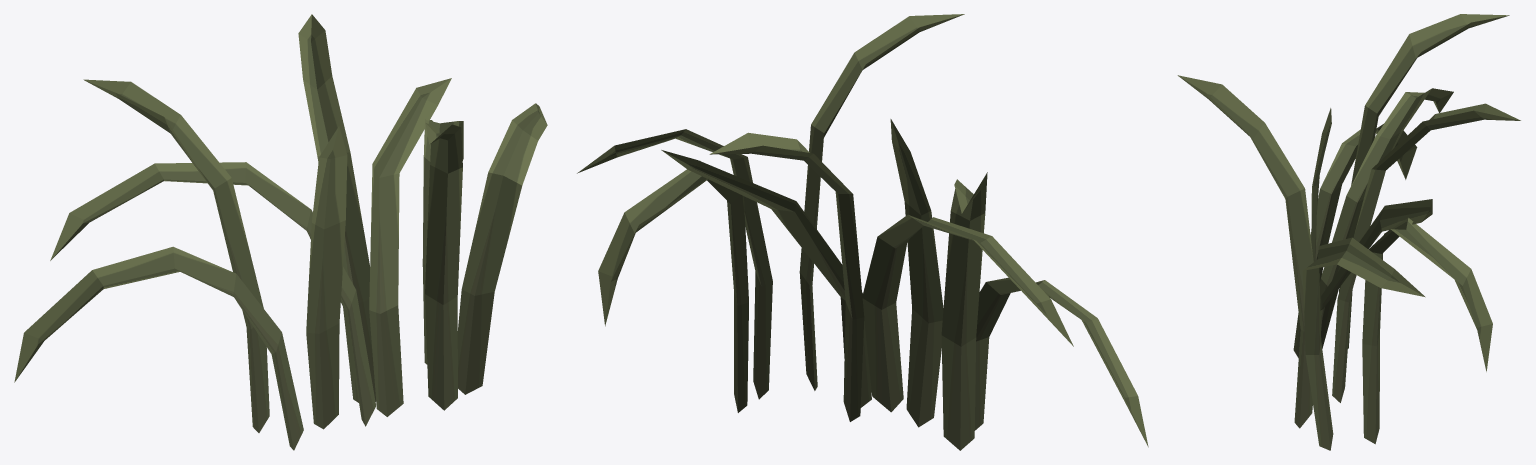
File: swamp_SM_Env_SwampGrass_Medium_01.gltf
3 renders of one model, left to right at view 1: azimuth 30°, elevation 25°; view 2: azimuth 150°, elevation 25°; view 3: azimuth 270°, elevation 25°, orthographic. The views are drawn at different scales.
Visible parts, largest first — view 1: SM_Env_SwampGrass_Medium_01_LOD0; view 2: SM_Env_SwampGrass_Medium_01_LOD0; view 3: SM_Env_SwampGrass_Medium_01_LOD0.
Boxes of the visible parts, x1,y1,x2,y2 form: SM_Env_SwampGrass_Medium_01_LOD0: (14,14,547,450); SM_Env_SwampGrass_Medium_01_LOD0: (577,14,1148,450); SM_Env_SwampGrass_Medium_01_LOD0: (1177,14,1520,450).
Size of what is drawn, in the model's own units: 3.43 by 2.07 by 2.01.
Materials: 1 (1 with a texture image).
